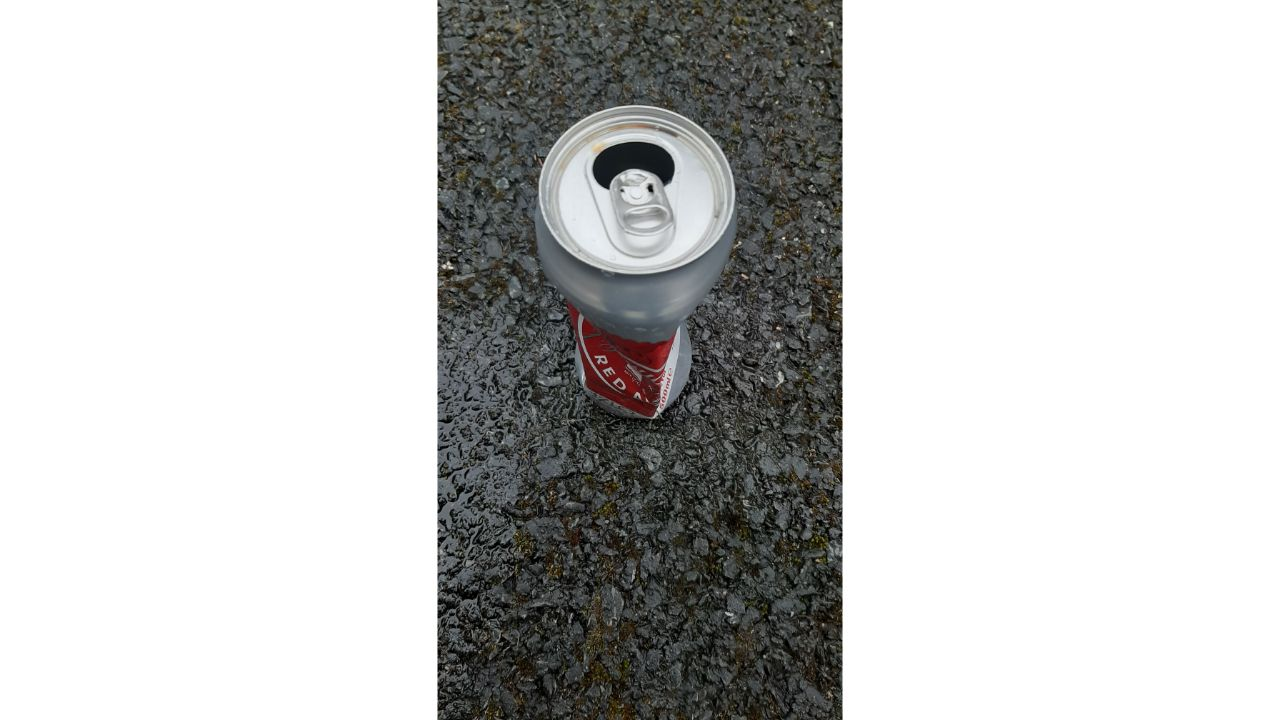Can: (537, 100, 739, 422)
